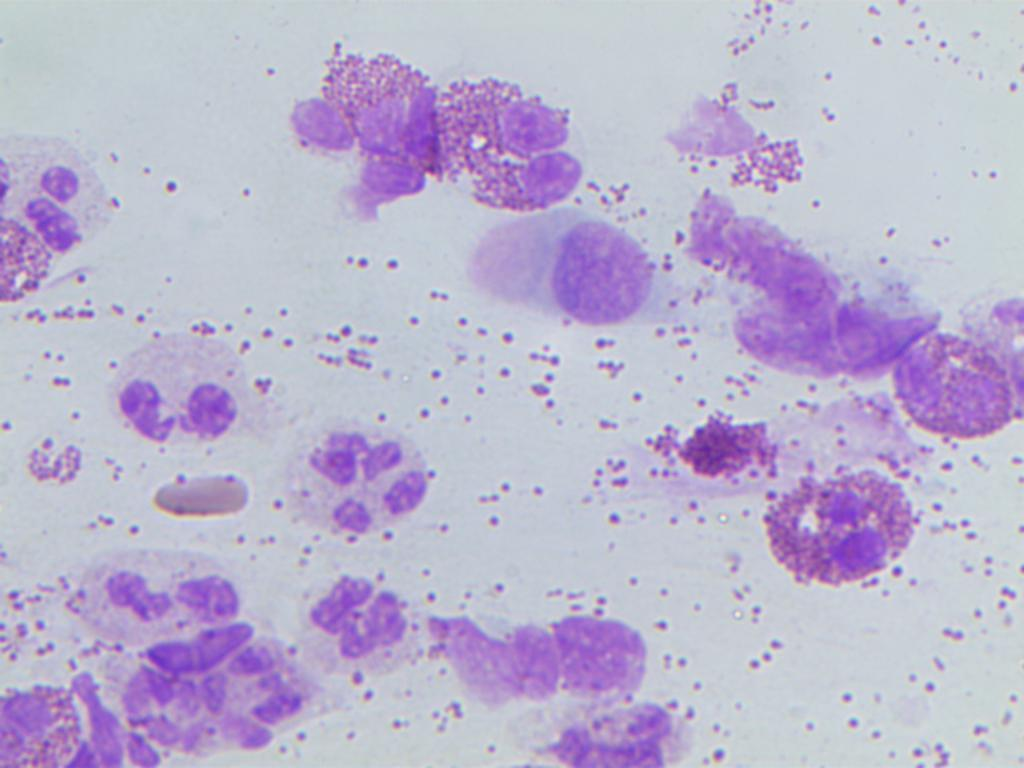eosinophil: (287, 36, 442, 204), (590, 401, 790, 516), (432, 78, 601, 204), (0, 106, 102, 309), (753, 475, 913, 600), (895, 310, 1022, 447), (523, 684, 706, 768), (0, 673, 88, 768)
epithelial: (455, 205, 660, 324)
erythrocyte: (150, 476, 253, 515)
neutrophil: (267, 401, 451, 552), (113, 635, 326, 752), (103, 309, 254, 455), (80, 552, 247, 670), (290, 580, 435, 670)
